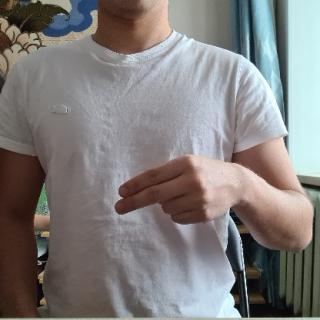AYN: (109, 151, 250, 230)
